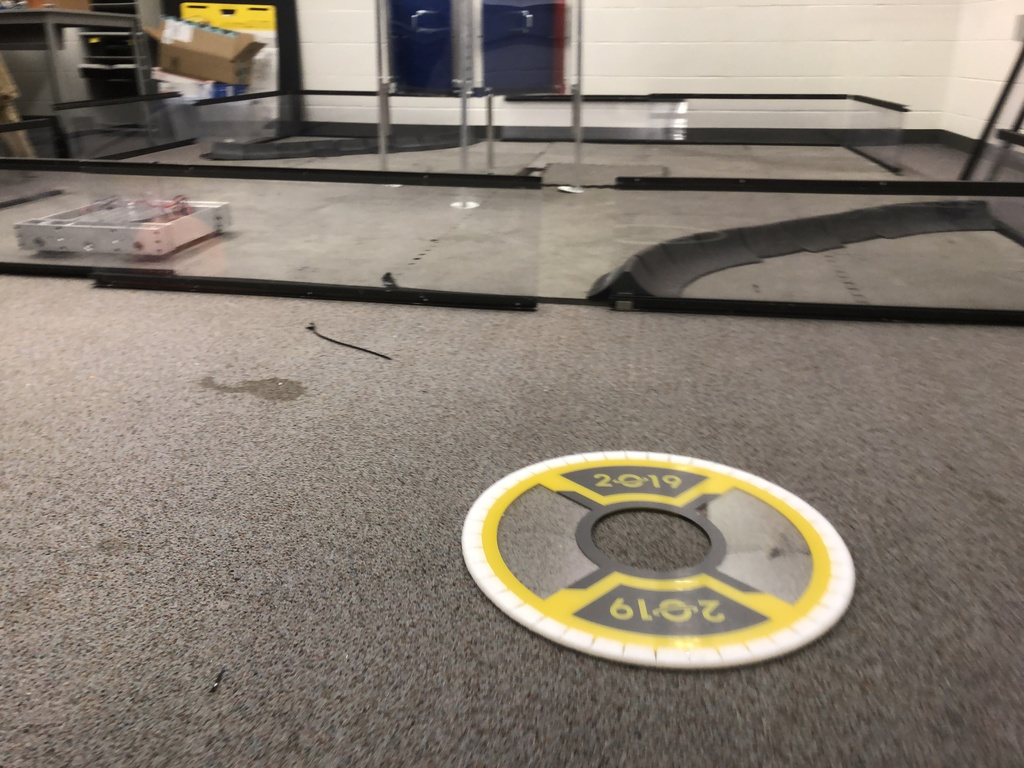hatch_panel: (454, 430, 881, 668)
